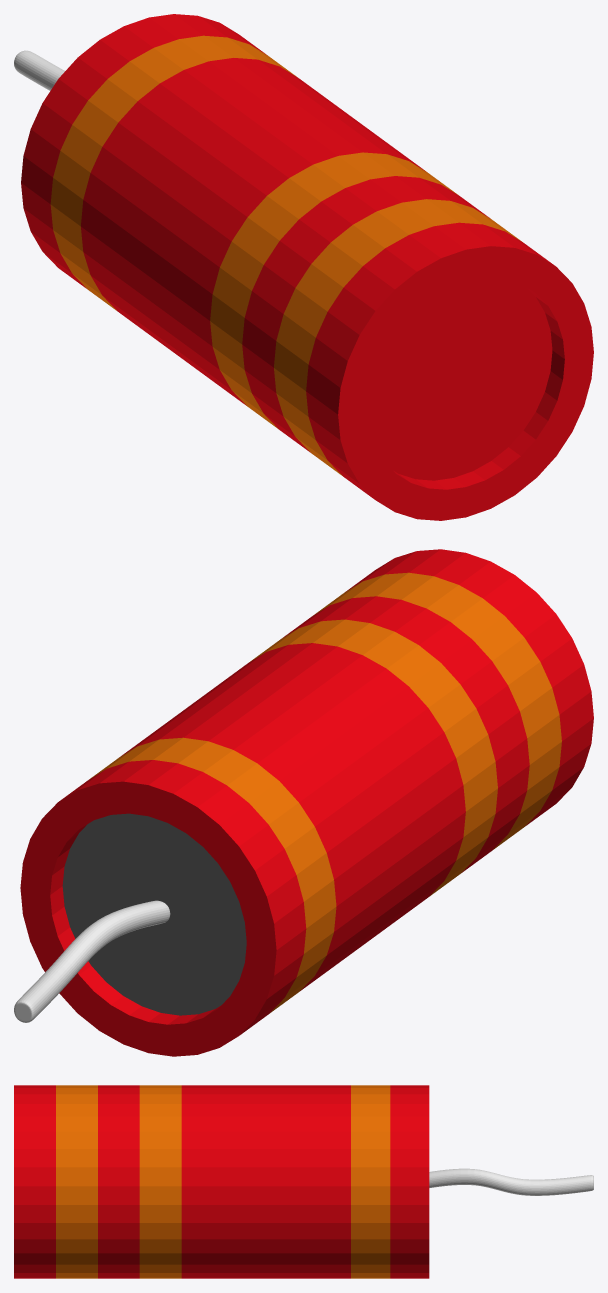
File: Cracker.fbx
3 views of the same model, one above another, from view 1: azimuth 30°, elevation 25°; view 2: azimuth 150°, elevation 25°; view 3: azimuth 270°, elevation 25° (orthographic). The views are drawn at different scales.
Parts seen in each view (by area): view 1: Cracker, String; view 2: Cracker, String; view 3: Cracker, String.
Boxes of the visible parts, bbox=[...] form: Cracker: bbox=[21, 14, 593, 520]; String: bbox=[14, 50, 64, 90]; Cracker: bbox=[20, 549, 593, 1056]; String: bbox=[14, 900, 170, 1022]; Cracker: bbox=[14, 1085, 429, 1278]; String: bbox=[429, 1168, 593, 1195].
Size of the model in its own units: 119 by 119 by 357.
